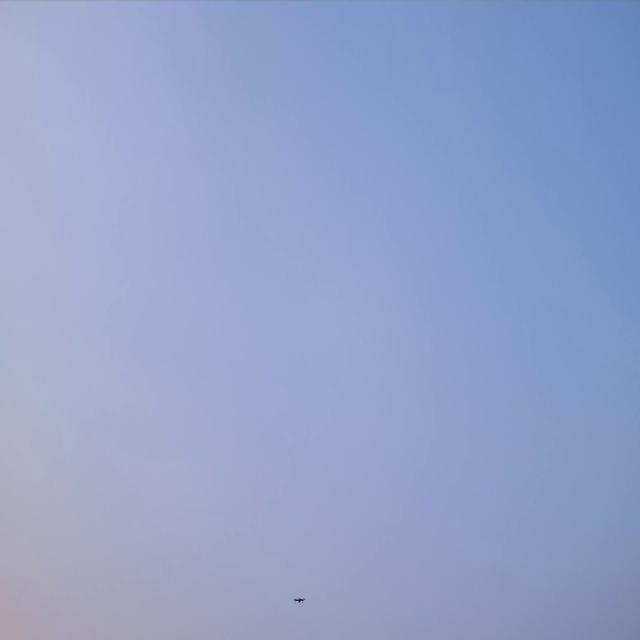UAV: (292, 593, 306, 606)
